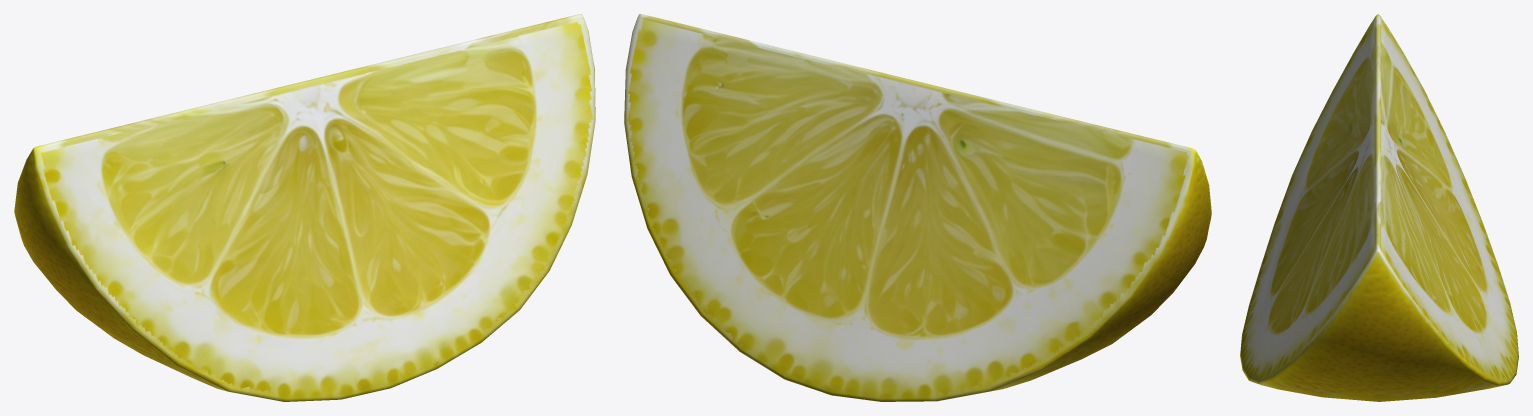
The model's file is lemon.glb.
3 renders of one model, left to right at view 1: azimuth 30°, elevation 25°; view 2: azimuth 150°, elevation 25°; view 3: azimuth 270°, elevation 25°, orthographic. The views are drawn at different scales.
Parts seen in each view (by area): view 1: GrapefruitSlice; view 2: GrapefruitSlice; view 3: GrapefruitSlice.
Boxes of the visible parts, bbox=[...] form: GrapefruitSlice: bbox=[14, 14, 595, 401]; GrapefruitSlice: bbox=[624, 14, 1211, 401]; GrapefruitSlice: bbox=[1240, 14, 1518, 401].
Bounding box in the file's own units: 1 × 0.4614 × 0.4882.
Materials: 1 (1 with a texture image).
